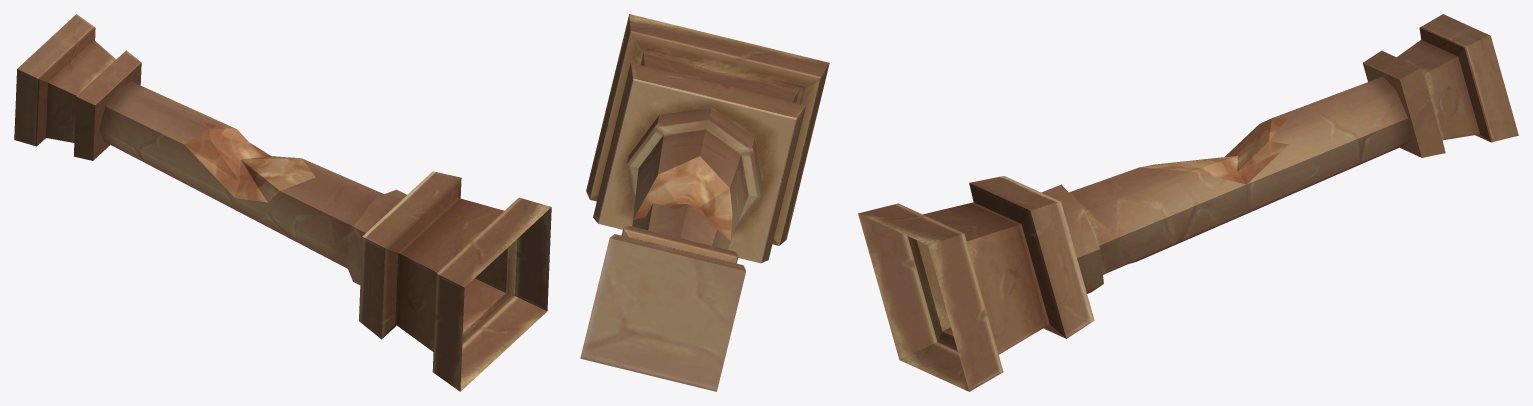
File: caodi_zhuzi_02.fbx
3 views of the same model, side by side, from view 1: azimuth 30°, elevation 25°; view 2: azimuth 150°, elevation 25°; view 3: azimuth 270°, elevation 25° (orthographic). The views are drawn at different scales.
Parts seen in each view (by area): view 1: caodi_zhuzi_02; view 2: caodi_zhuzi_02; view 3: caodi_zhuzi_02.
Boxes of the visible parts, left/top/right/bottom form: caodi_zhuzi_02: left=14, top=14, right=551, bottom=391; caodi_zhuzi_02: left=580, top=14, right=829, bottom=391; caodi_zhuzi_02: left=858, top=14, right=1518, bottom=391.
Bounding box in the file's own units: 8.86 × 5.76 × 13.61.
